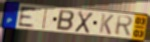B: (55, 9, 75, 32)
E: (18, 6, 38, 28)
I: (41, 7, 49, 30)
K: (98, 13, 115, 36)
R: (114, 15, 135, 37)
X: (74, 10, 95, 35)
